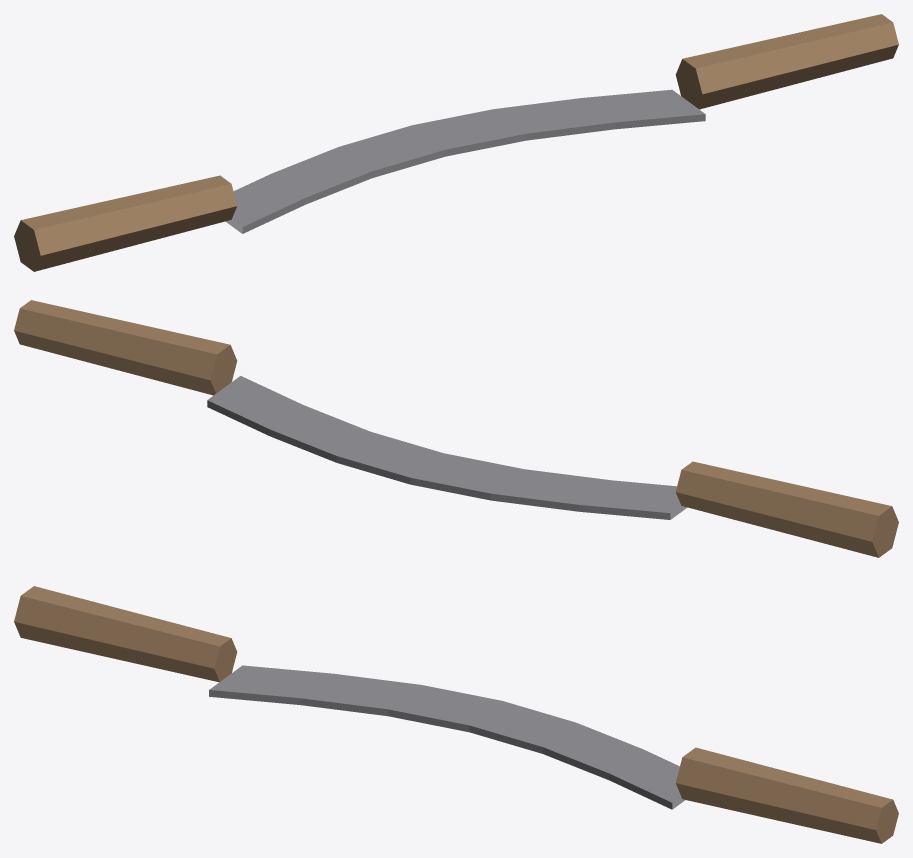
Rendered from prop-scraping-knife.fbx.
3 renders of one model, top to bottom at view 1: azimuth 30°, elevation 25°; view 2: azimuth 150°, elevation 25°; view 3: azimuth 330°, elevation 25°, orthographic.
Visible parts, largest first — view 1: prop-scraping-knife; view 2: prop-scraping-knife; view 3: prop-scraping-knife.
Part boxes in pixels (box(x1,y1,x2,y2)): prop-scraping-knife: box(14, 14, 898, 271); prop-scraping-knife: box(14, 300, 898, 557); prop-scraping-knife: box(14, 586, 898, 843).
Bounding box in the file's own units: 52 × 2.61 × 6.5.
